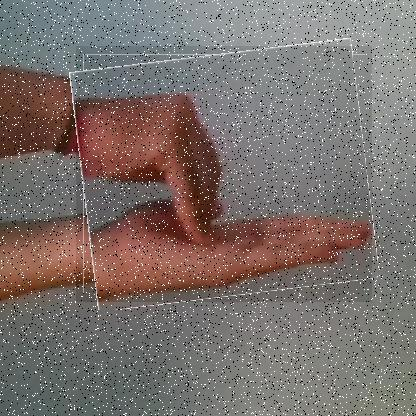Z: (76, 46, 373, 303)
